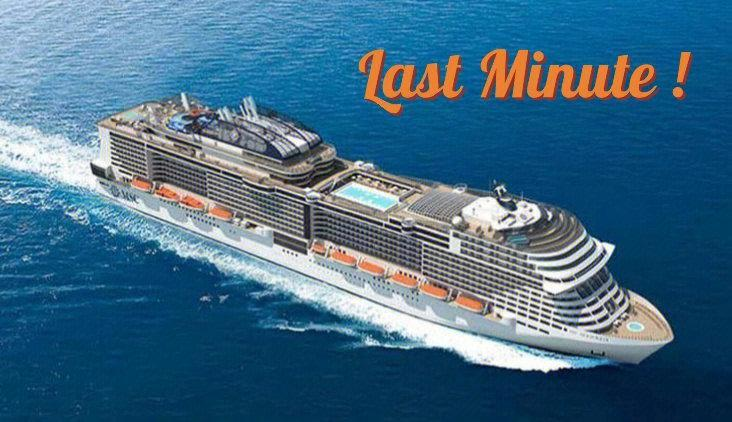Ship: (66, 92, 670, 362)
